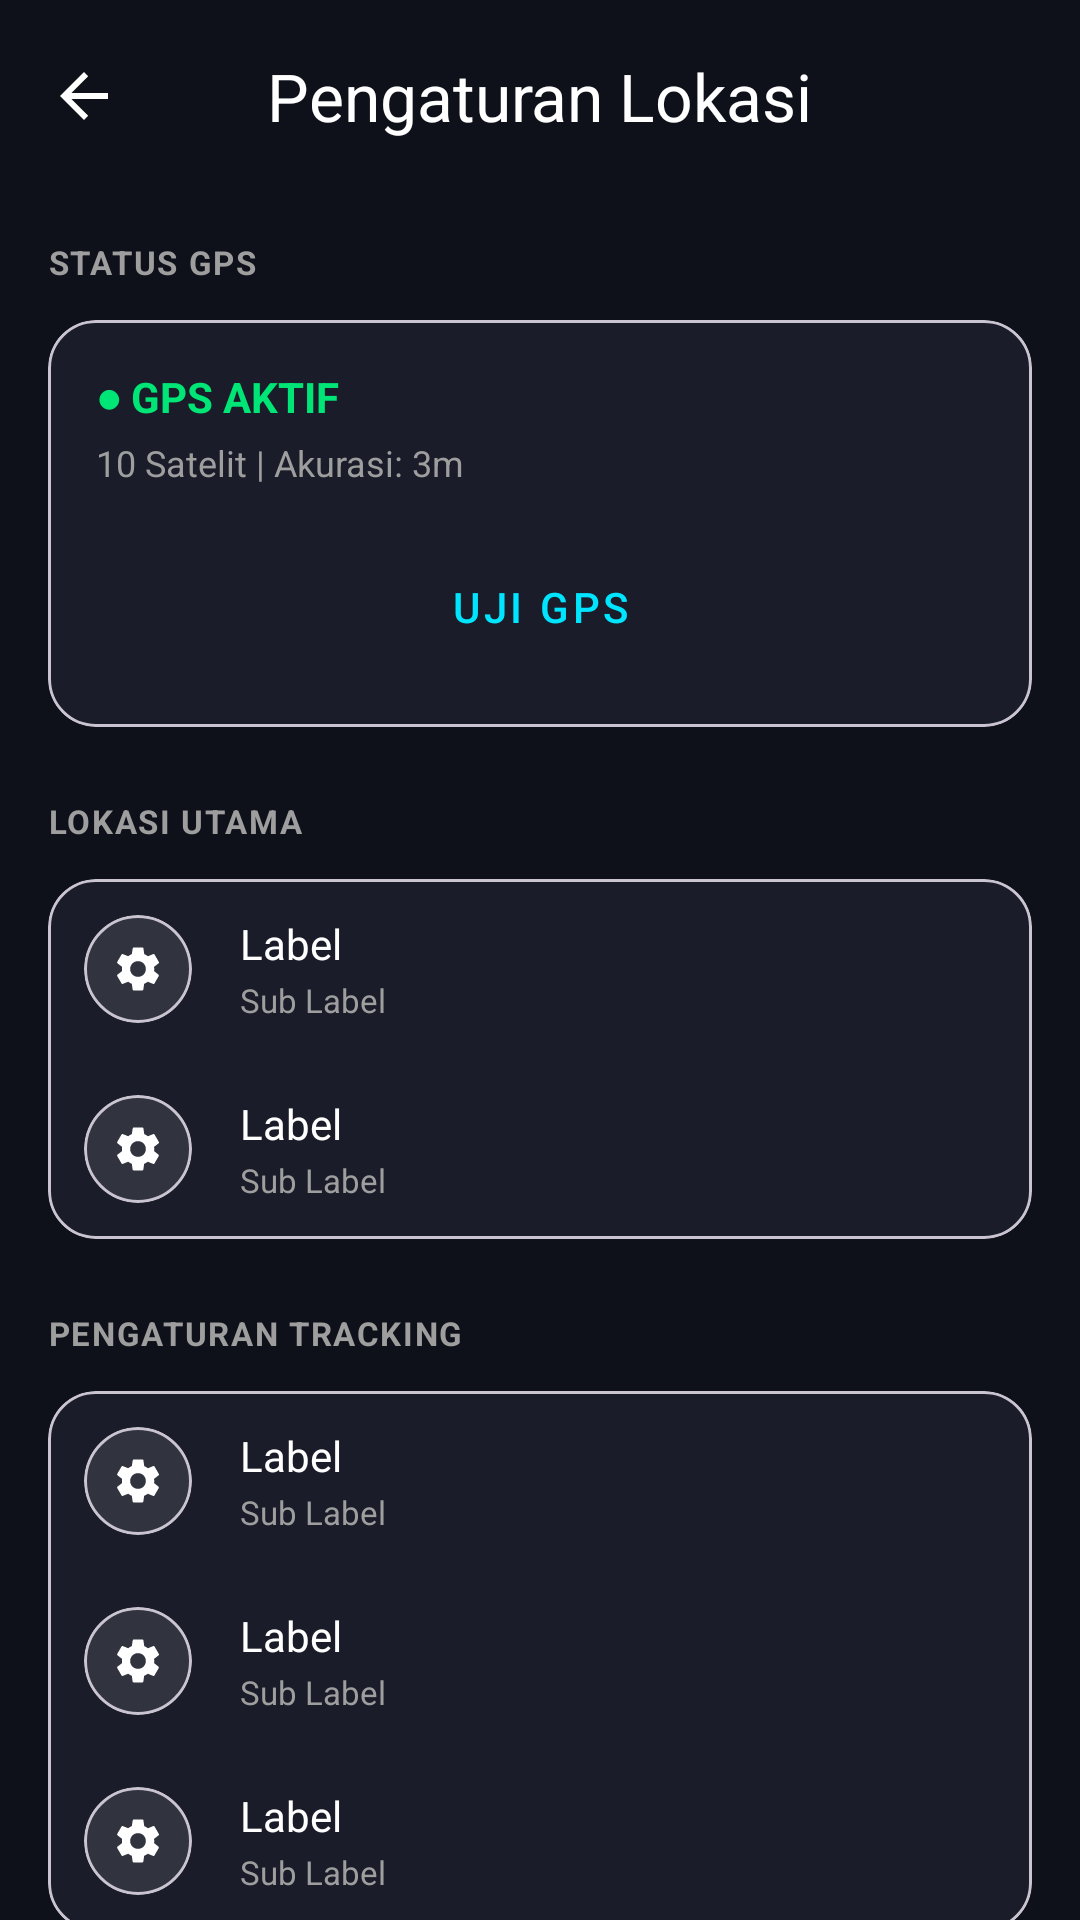

Named icons in this screenshot (1080×1920) and their bounding boxes, (x1, y1, x2, y2):
settings: (117, 947, 159, 991), (117, 1127, 159, 1171), (117, 1459, 159, 1503), (117, 1639, 159, 1683), (117, 1819, 159, 1863)
